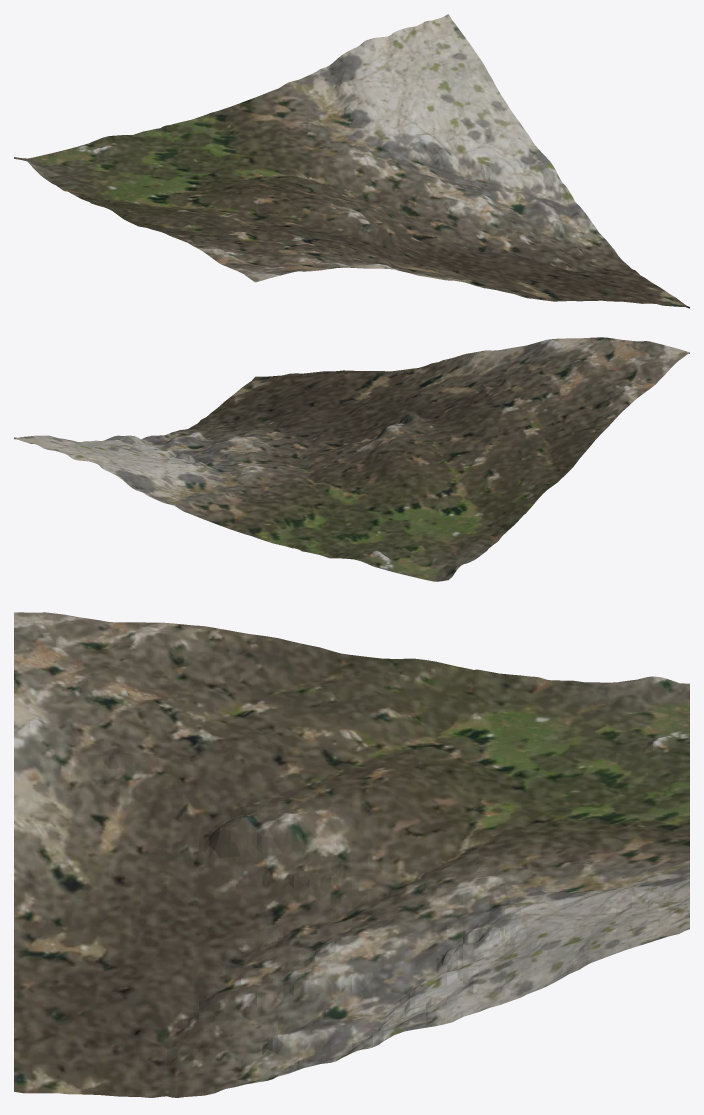
The picture shows the model from 3 angles, top to bottom: view 1: azimuth 30°, elevation 25°; view 2: azimuth 150°, elevation 25°; view 3: azimuth 270°, elevation 25°; orthographic projection. The views are drawn at different scales.
Bounding box in the file's own units: 250 × 75.81 × 241.
Materials: 1 (1 with a texture image).
